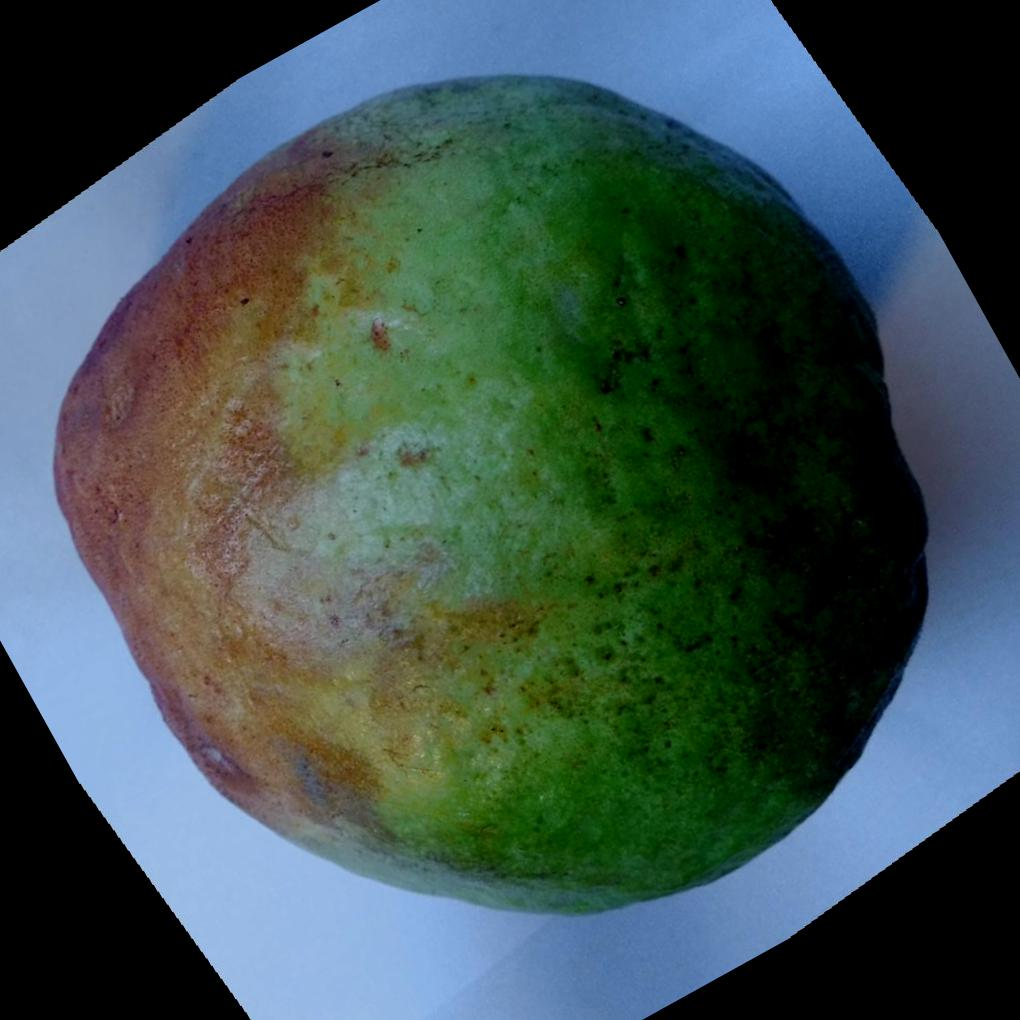FreshOrange: (48, 69, 929, 915)
